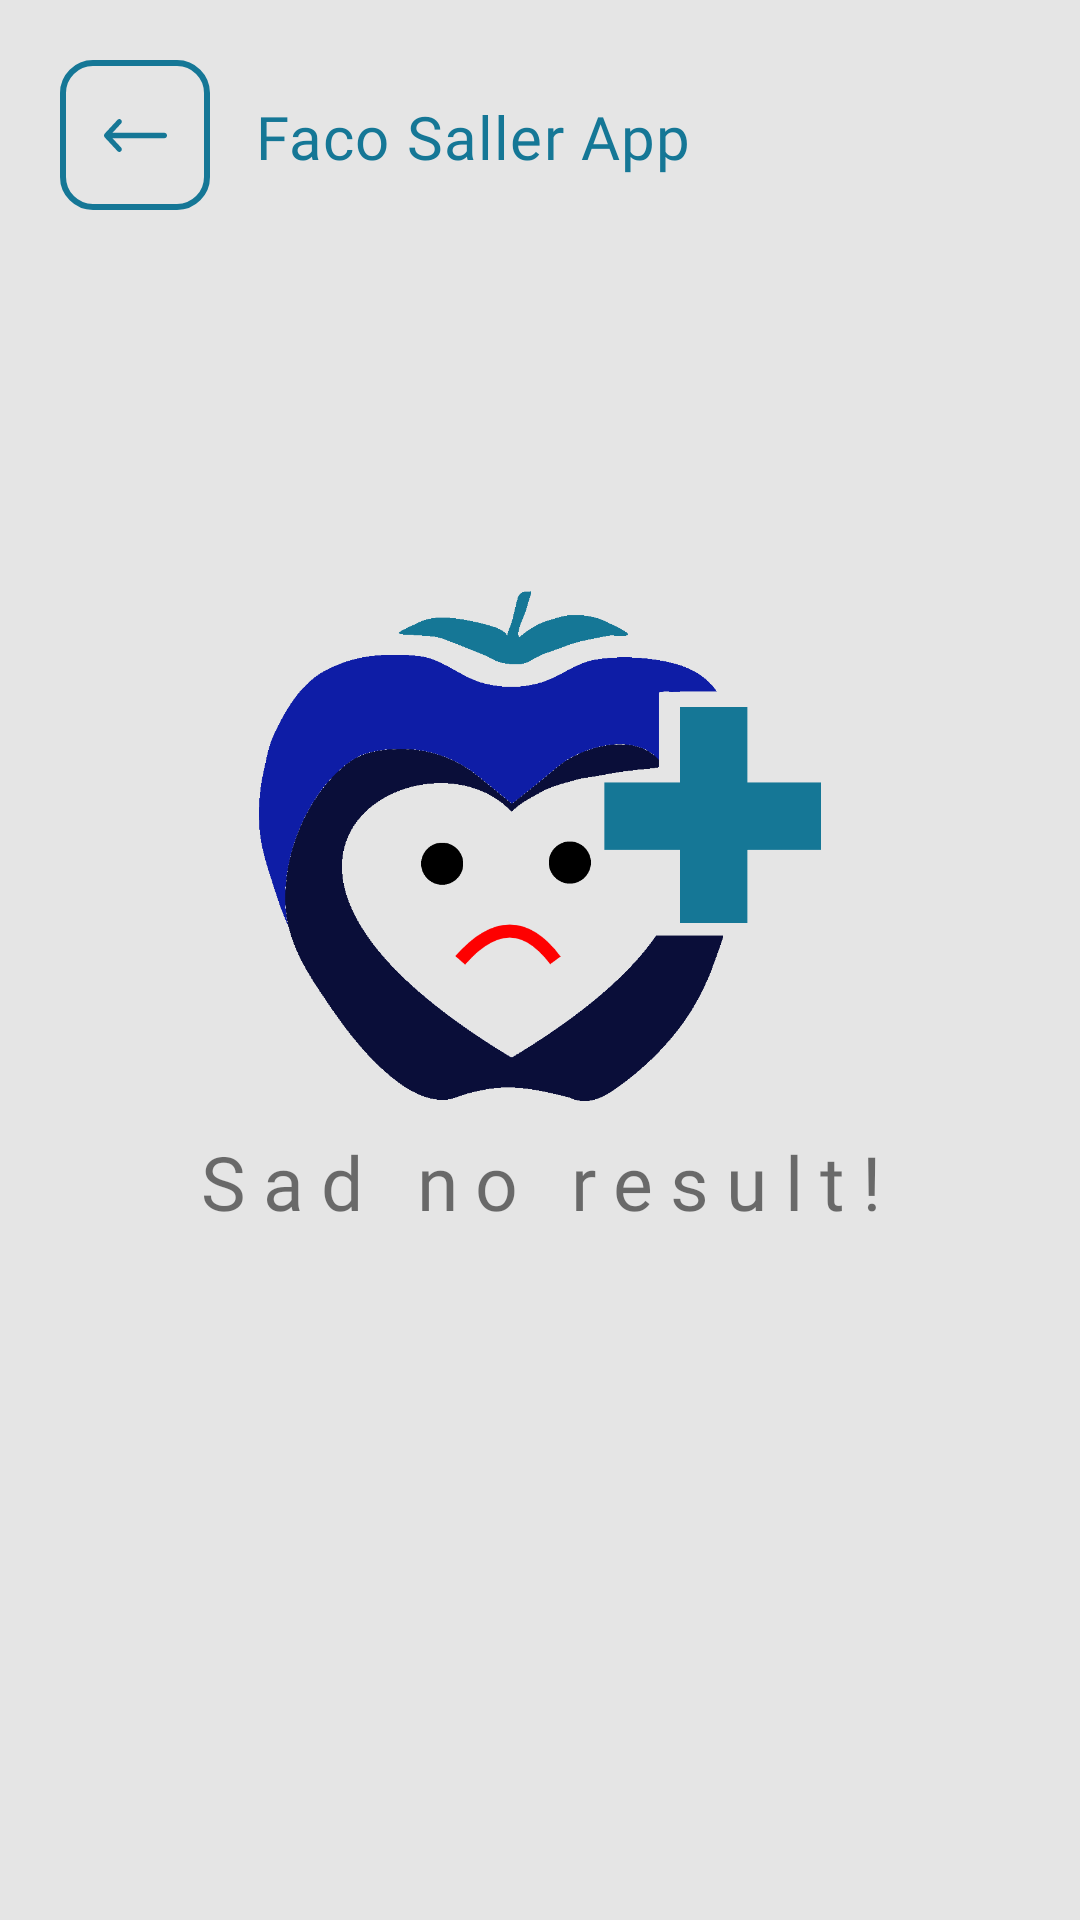

Screen size 1080 x 1920. Icon name, then its box in pixels as (x1, y1, x2, y2):
left arrow: (60, 60, 210, 210)
